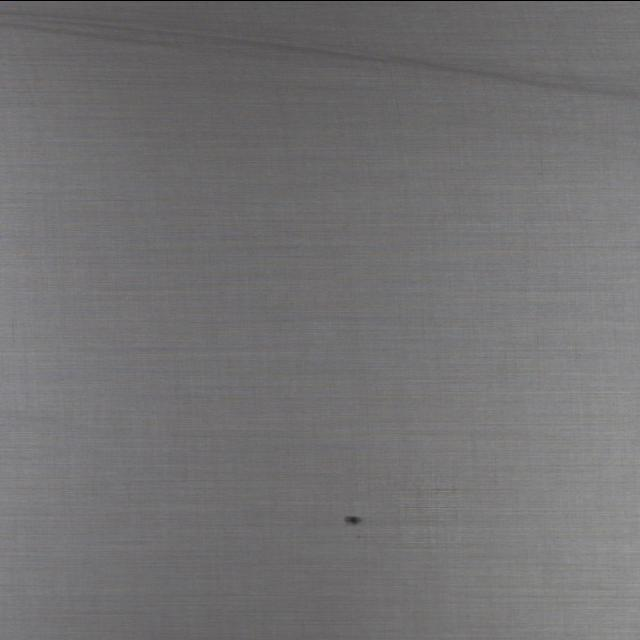dirty: (342, 515, 361, 525), (356, 534, 360, 537)
